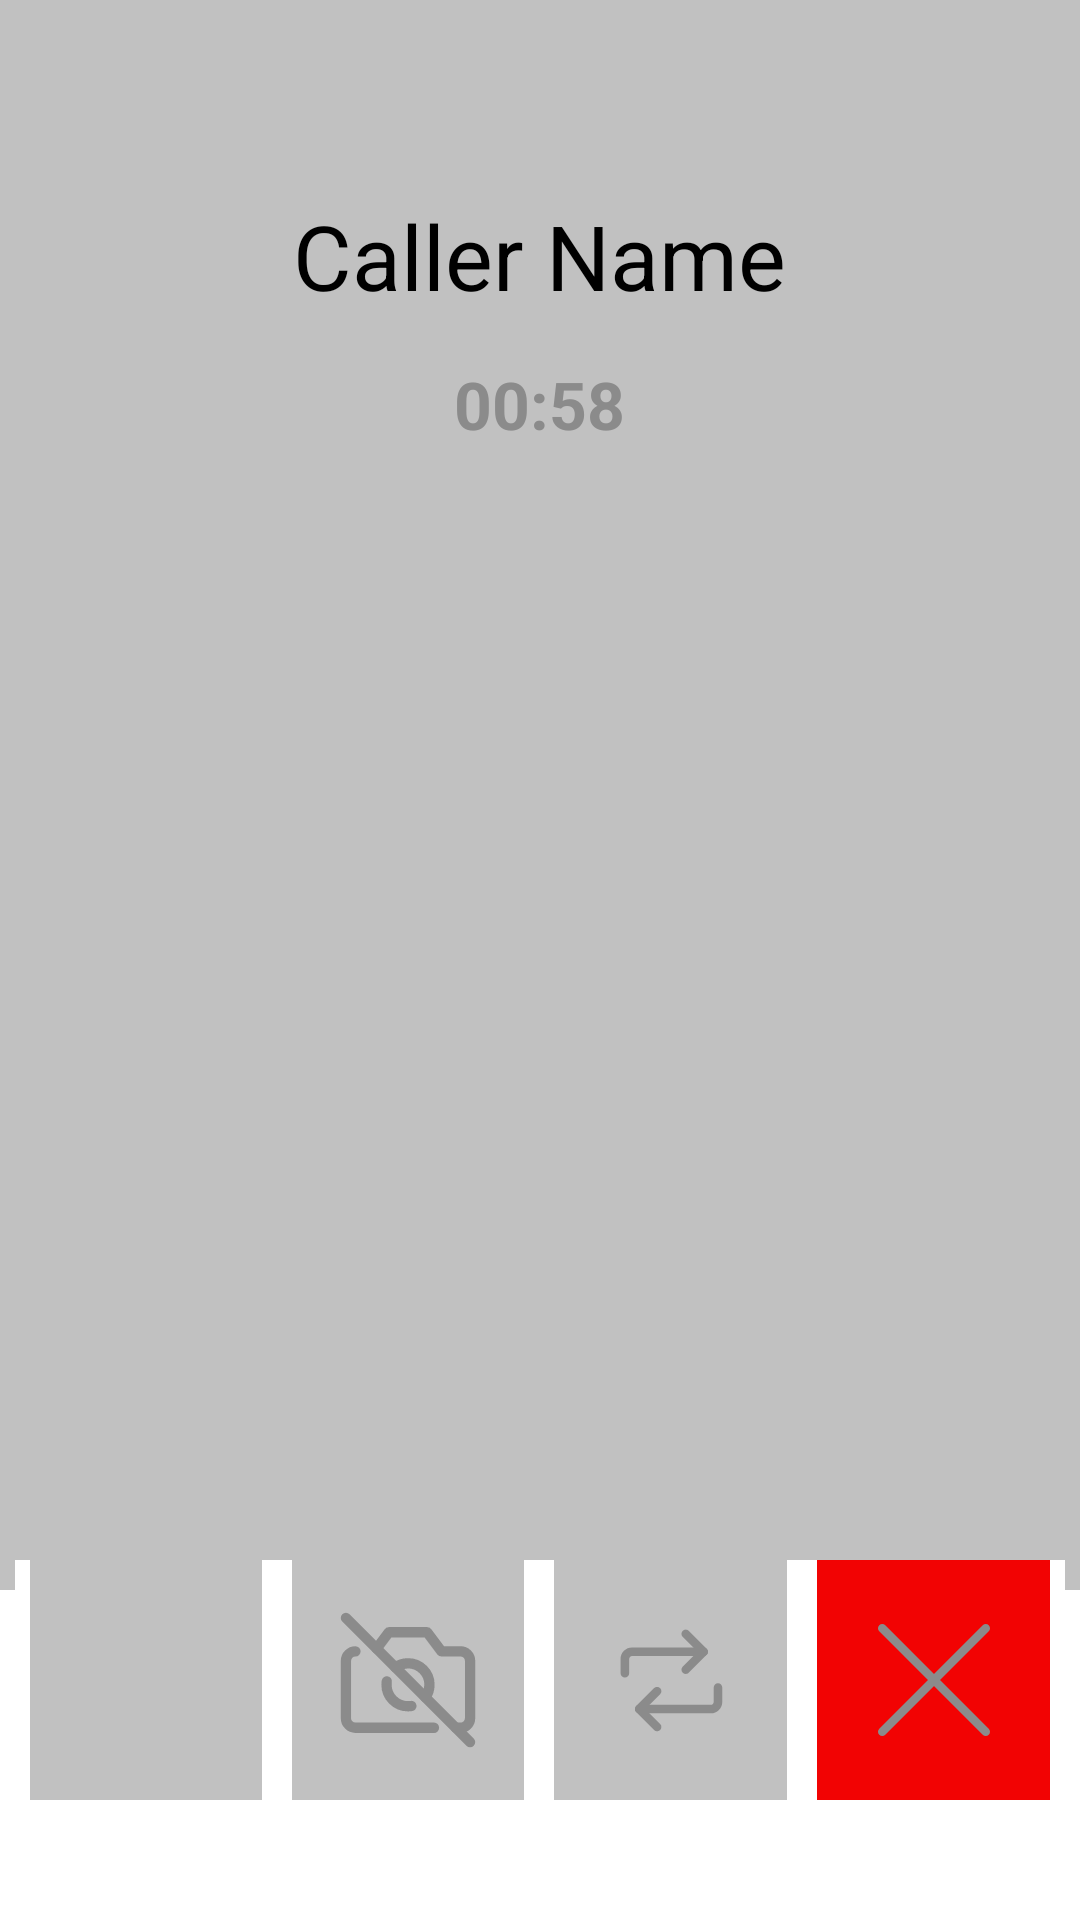

Named icons in this screenshot (1080 x 1920) and their centers, (x,y):
Camera Change: (671,1680)
Cancel: (933,1680)
Close Camera: (408,1680)
